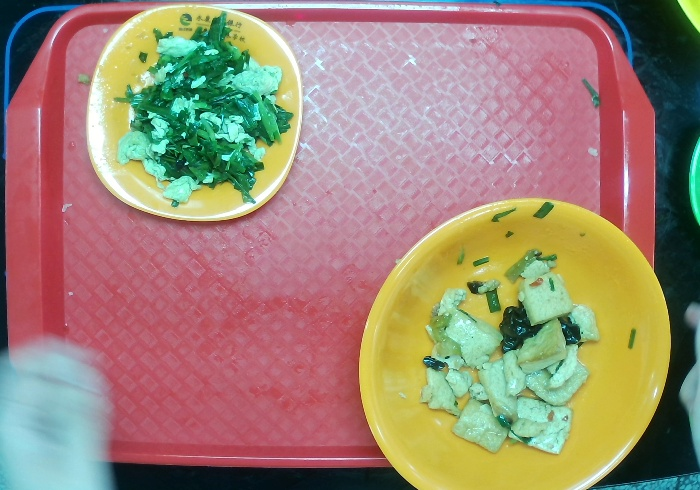YKMZ-Ju_Se_Fang_Die: (84, 1, 307, 226)
YKMZ-Ju_Se_Tang_Wan: (348, 197, 690, 490)
